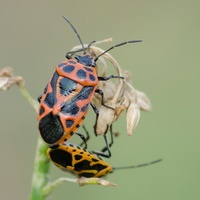insect: (31, 16, 150, 199), (75, 105, 106, 151)
